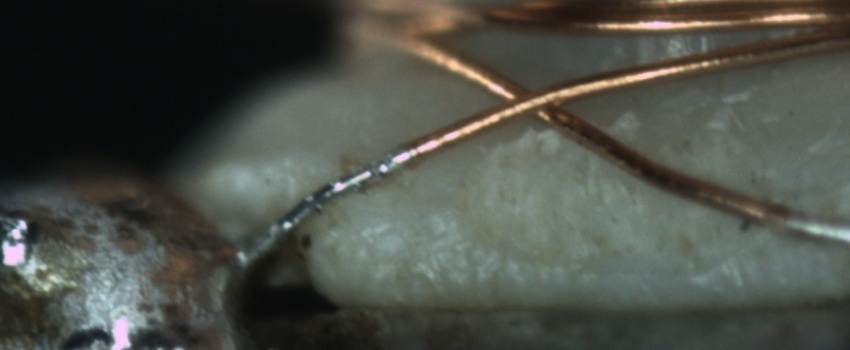CL: (467, 69, 594, 132)
TS: (234, 145, 415, 268)
TTCW: (242, 121, 452, 264)
